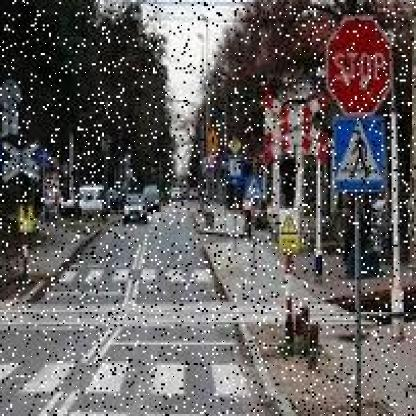Pedestrian Crossing: (335, 115, 388, 195), (247, 175, 263, 200)
